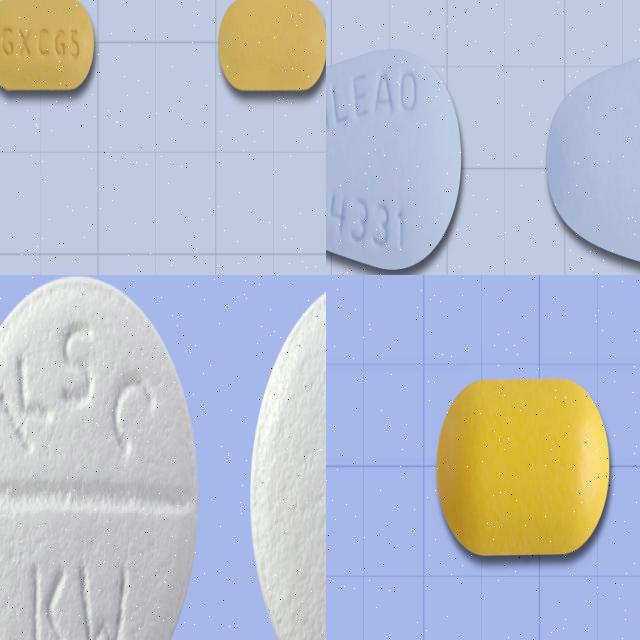Dr- Bearse: (437, 376, 611, 554)
K-Sacin: (0, 275, 199, 640), (250, 275, 326, 640)
Whanin Levofloxacin Tab: (326, 48, 463, 273), (545, 45, 640, 270)
Ziagen Tab: (218, 0, 326, 91), (0, 0, 96, 91)
